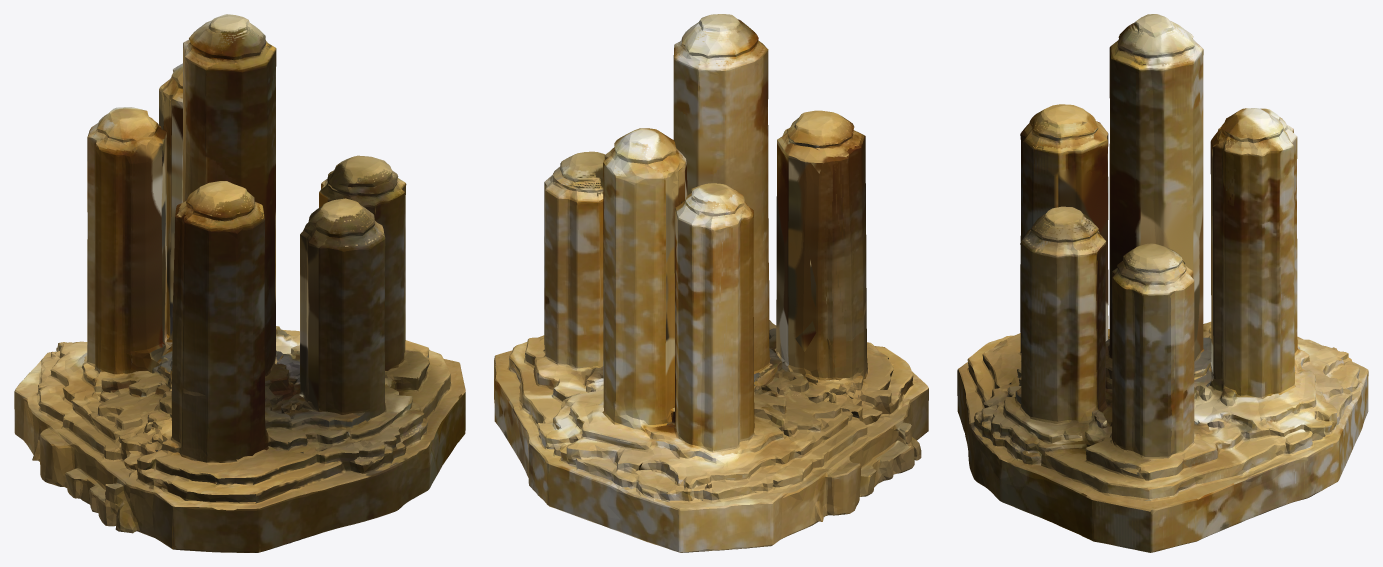
The model's file is traveler_env_coast_egg_calcite_00001_.glb.
The picture shows the model from 3 angles, left to right: view 1: azimuth 30°, elevation 25°; view 2: azimuth 150°, elevation 25°; view 3: azimuth 270°, elevation 25°; orthographic projection. The views are drawn at different scales.
Parts seen in each view (by area): view 1: temp_mesh.ply; view 2: temp_mesh.ply; view 3: temp_mesh.ply.
Boxes of the visible parts, <box> form: temp_mesh.ply: <box>14,14,465,552</box>; temp_mesh.ply: <box>494,14,928,552</box>; temp_mesh.ply: <box>957,14,1368,552</box>.
Bounding box in the file's own units: 1.82 × 1.97 × 1.73.
Materials: 1 (1 with a texture image).
